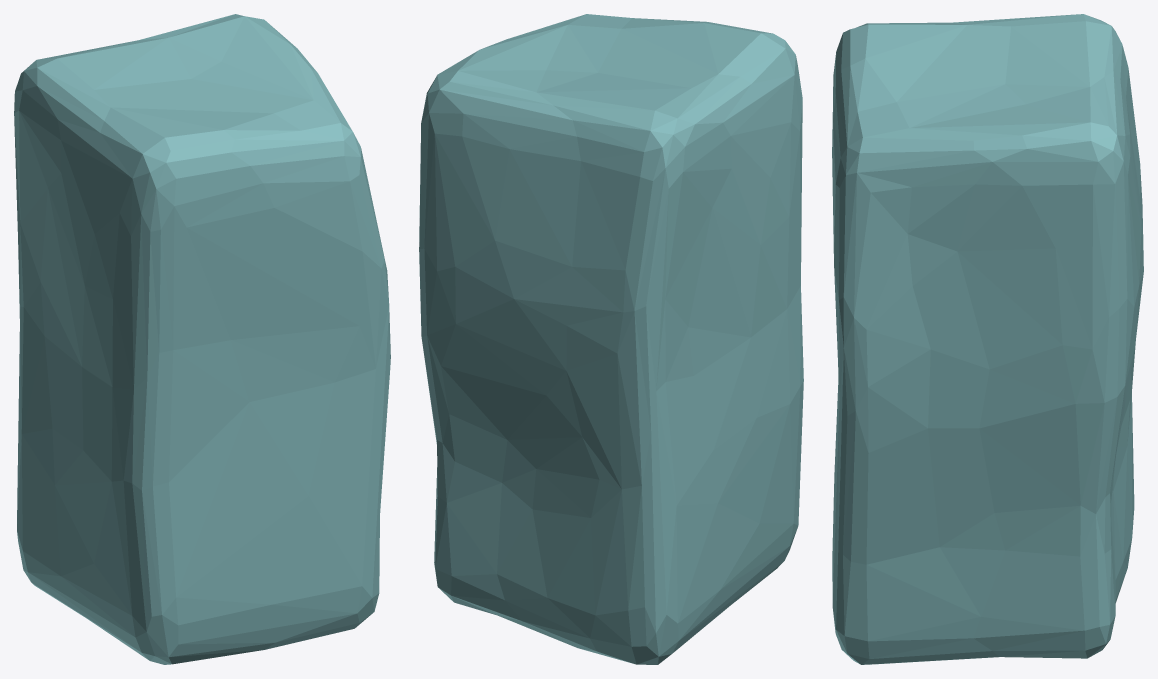
File: Final Island_SecondRock.fbx
3 renders of one model, left to right at view 1: azimuth 30°, elevation 25°; view 2: azimuth 150°, elevation 25°; view 3: azimuth 270°, elevation 25°, orthographic. The views are drawn at different scales.
Parts seen in each view (by area): view 1: Cube.001; view 2: Cube.001; view 3: Cube.001.
Part boxes in pixels (box(x1,y1,x2,y2)): Cube.001: box(14, 14, 390, 664); Cube.001: box(419, 14, 803, 664); Cube.001: box(832, 14, 1143, 664).
Bounding box in the file's own units: 664 × 1299 × 666.
